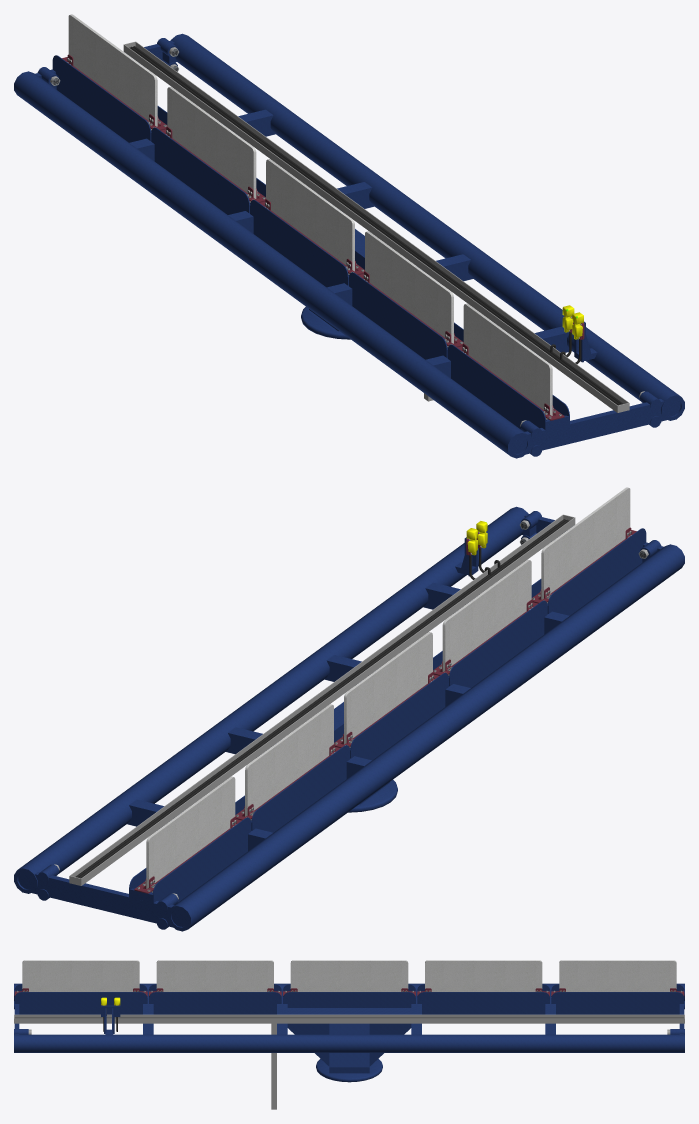
The model's file is Trim Section (Fixed with start sensor).dae.
The picture shows the model from 3 angles, top to bottom: view 1: azimuth 30°, elevation 25°; view 2: azimuth 150°, elevation 25°; view 3: azimuth 270°, elevation 25°; orthographic projection. The views are drawn at different scales.
Parts seen in each view (by area): view 1: Mid_Detail (×12), Track (×7), High_Detail (×3); view 2: Mid_Detail (×12), Track (×7), High_Detail (×3); view 3: Mid_Detail (×12), Track (×6), High_Detail (×2).
Boxes of the visible parts, x1,y1,x2,y2 form: Mid_Detail (×12): [52, 14, 629, 430]; Track (×7): [14, 33, 684, 458]; High_Detail (×3): [129, 46, 623, 405]; Mid_Detail (×12): [69, 487, 646, 903]; Track (×7): [14, 506, 684, 931]; High_Detail (×3): [75, 519, 569, 878]; Mid_Detail (×12): [14, 960, 684, 1109]; Track (×6): [14, 983, 684, 1082]; High_Detail (×2): [15, 1005, 683, 1034].
Bounding box in the file's own units: 40.76 × 197 × 40.52.
Materials: 9 (4 with a texture image).
